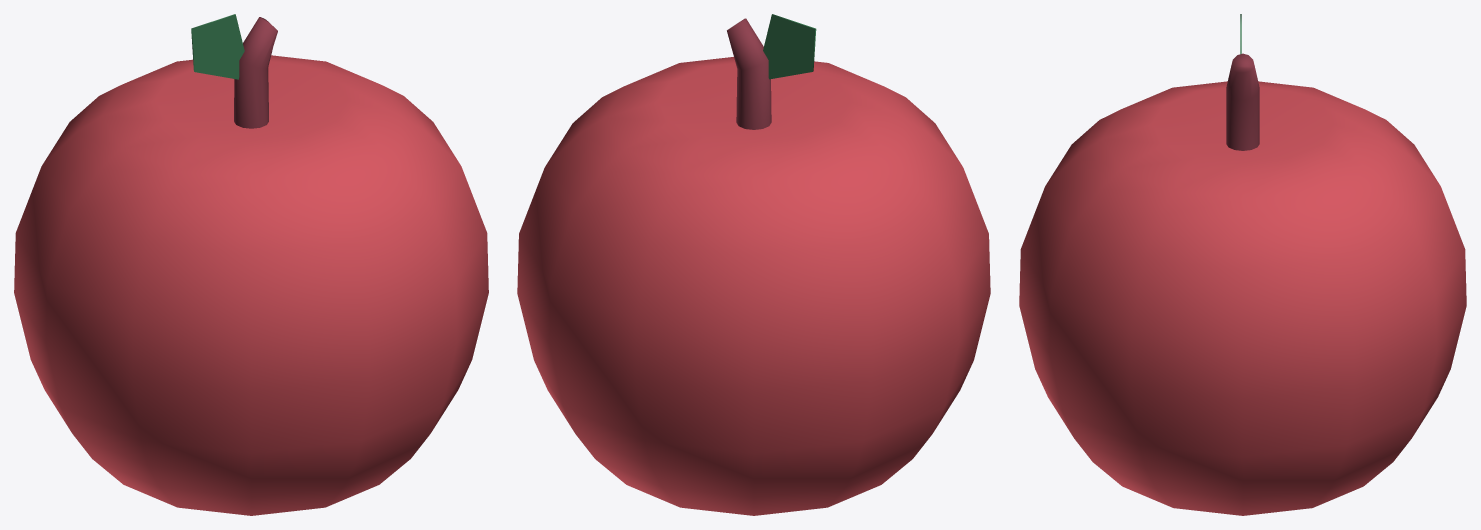
The model's file is maca.fbx.
3 renders of one model, left to right at view 1: azimuth 30°, elevation 25°; view 2: azimuth 150°, elevation 25°; view 3: azimuth 270°, elevation 25°, orthographic. The views are drawn at different scales.
Visible parts, largest first — view 1: Maca; view 2: Maca; view 3: Maca.
Part boxes in pixels (bbox=[...]): Maca: bbox=[14, 14, 488, 515]; Maca: bbox=[517, 14, 990, 515]; Maca: bbox=[1019, 14, 1466, 515].
Bounding box in the file's own units: 8.47 × 9.17 × 8.47.
